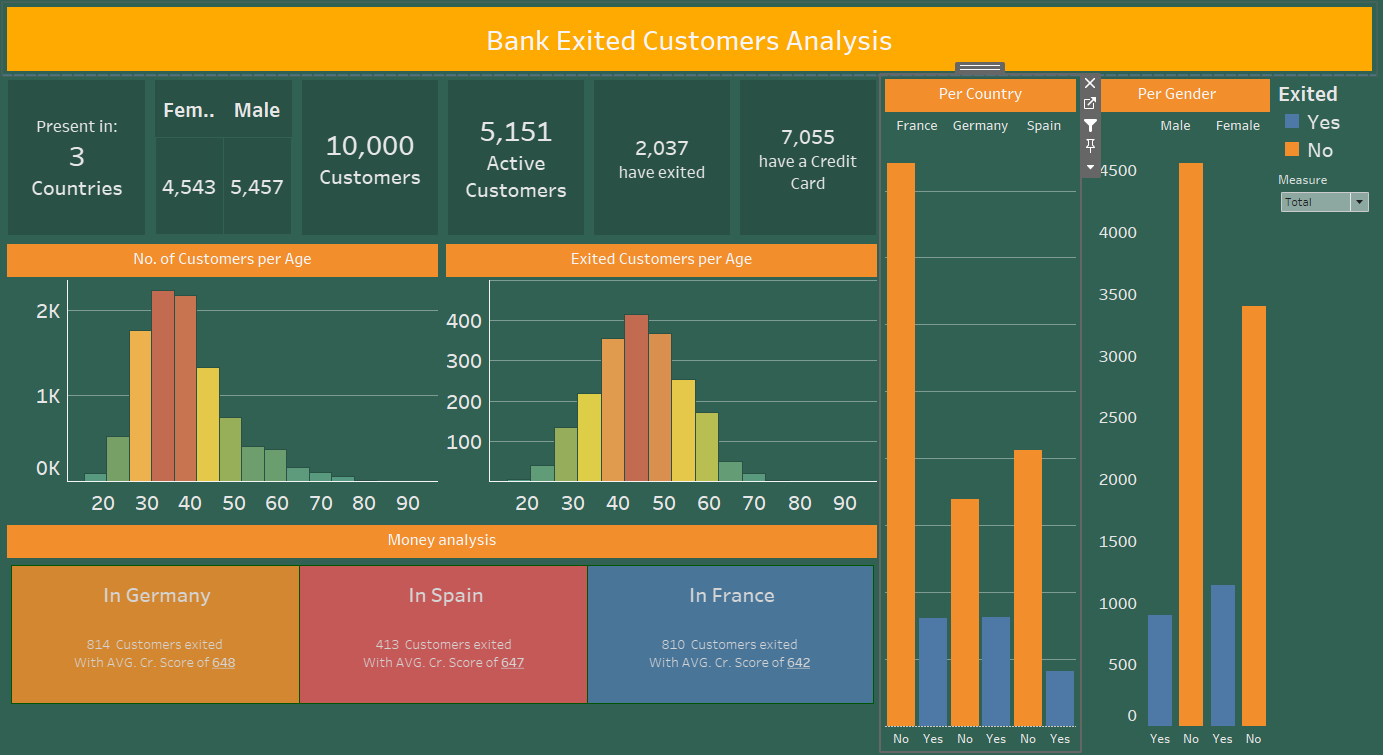

The page's visual inventory and layout, read from the dashboard file:
{"tool":"tableau","page":{"name":"Dashboard 1","canvas":[1000,1000],"units":"permille","ordinal":0},"visuals":[{"type":"text","box":[5.8,10.5,988.5,94.6]},{"type":"worksheet","title":"Present in:","mark":"Automatic","box":[5.8,104.7,105.8,216]},{"type":"worksheet","title":"Gender:","mark":"Automatic","cols":["Gender"],"box":[111.6,104.7,105.8,216]},{"type":"worksheet","title":"No, of Customers:","mark":"Automatic","box":[217.4,104.7,105.1,216]},{"type":"worksheet","title":"Active:","mark":"Automatic","box":[322.5,104.7,105.1,216]},{"type":"worksheet","title":"Exited","mark":"Automatic","box":[427.7,104.7,105.1,216]},{"type":"worksheet","title":"CrCard","mark":"Automatic","box":[532.8,104.7,105.1,216]},{"type":"worksheet","title":"Cx per country","mark":"Automatic","rows":["Number of Records"],"cols":["Geography","Exited"],"box":[637.9,105,143.4,884.5]},{"type":"worksheet","title":"Exited per Gender","mark":"Bar","rows":["Exited","Calculation_493707152147136518"],"cols":["Gender","Exited"],"box":[781.3,105,139.5,884.5]},{"type":"legend","title":"Exited per Gender","param":"[federated.0nh5s8g0dow4na14plmbg09fly9c].[none:Exited:ok]","box":[920.8,105,73.4,120.4]},{"type":"parameter","param":"[Parameters].[Parameter 1]","box":[920.8,225.5,73.4,68.1]},{"type":"worksheet","title":"AgeCount","mark":"Automatic","rows":["Age"],"cols":["Age (bin)"],"box":[5.8,321.2,315.9,367.1]},{"type":"worksheet","title":"Exited/Age","mark":"Automatic","rows":["Exited"],"cols":["Age (bin)"],"box":[321.7,321.2,316.2,367.1]},{"type":"worksheet","title":"Cr.Score","mark":"Square","box":[5.8,688.4,632.1,251.3]}]}

Visuals, with their boxes on the dashboard's canvas, which has no fixed pixel size, in thousandths of its width and height (x1, y1, x2, y2). These are canvas units, not pixel positions in the 1383x755 screenshot, which may show the page scaled, cropped or inside an application window:
text: 6:10:994:105
"Present in:" worksheet: 6:105:112:321
"Gender:" worksheet: 112:105:217:321
"No, of Customers:" worksheet: 217:105:322:321
"Active:" worksheet: 322:105:428:321
"Exited" worksheet: 428:105:533:321
"CrCard" worksheet: 533:105:638:321
"Cx per country" worksheet: 638:105:781:990
"Exited per Gender" worksheet (Bar marks): 781:105:921:990
"Exited per Gender" legend: 921:105:994:225
parameter: 921:226:994:294
"AgeCount" worksheet: 6:321:322:688
"Exited/Age" worksheet: 322:321:638:688
"Cr.Score" worksheet (Square marks): 6:688:638:940
